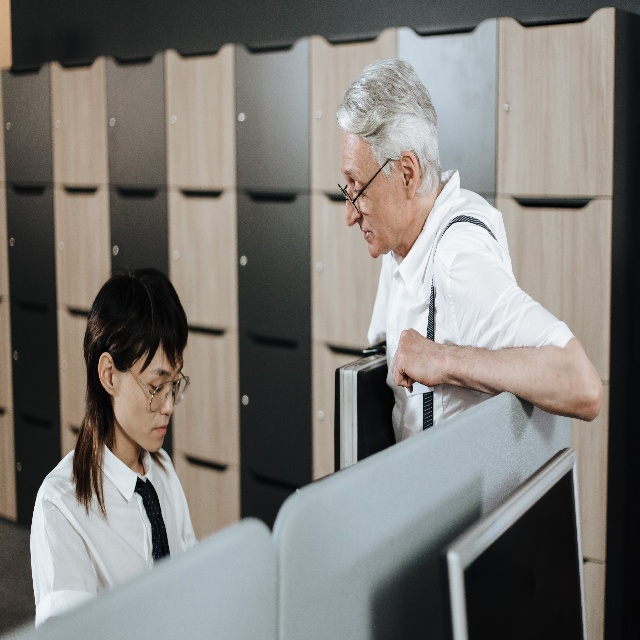Gafas: (338, 155, 393, 214), (125, 363, 190, 412)
Sin_guantes: (390, 327, 450, 394)
